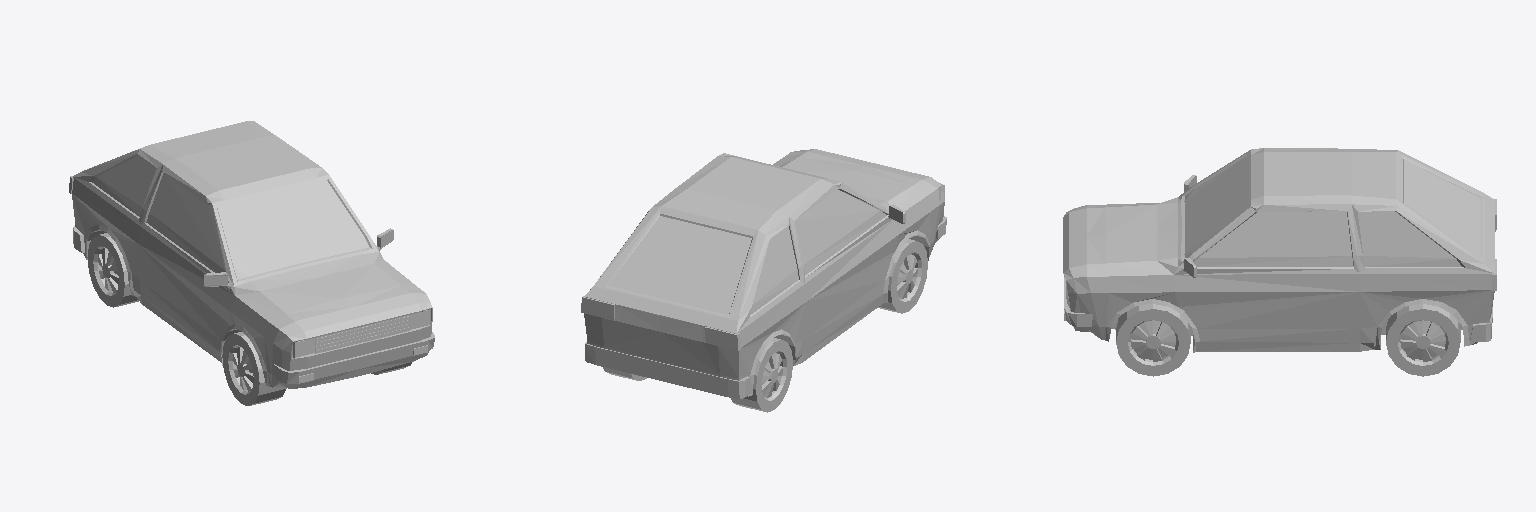
Rendered from carobj.obj.
The picture shows the model from 3 angles: view 1: azimuth 30°, elevation 25°; view 2: azimuth 150°, elevation 25°; view 3: azimuth 270°, elevation 25°; orthographic projection.
Visible parts, largest first — view 1: Cube_Material.001_0, Cube.003_Materiais_0, Cube.001_Materiais_0, Cube.004_Materiais_0, Cube.002_Materiais_0, Cube.007_Materiais_0, Cube.006_farois_f_0; view 2: Cube_Material.001_0, Cube.004_Materiais_0, Cube.001_Materiais_0, Cube.003_Materiais_0, Cube.005_farois_3_0; view 3: Cube_Material.001_0, Cube.001_Materiais_0, Cube.003_Materiais_0, Cube.004_Materiais_0.
Part boxes in pixels (left/top/right/bottom): Cube_Material.001_0: left=72, top=121, right=432, bottom=388; Cube.003_Materiais_0: left=222, top=332, right=411, bottom=405; Cube.001_Materiais_0: left=87, top=233, right=138, bottom=307; Cube.004_Materiais_0: left=73, top=226, right=434, bottom=383; Cube.002_Materiais_0: left=293, top=309, right=430, bottom=358; Cube.007_Materiais_0: left=204, top=228, right=393, bottom=288; Cube.006_farois_f_0: left=296, top=310, right=429, bottom=356; Cube_Material.001_0: left=584, top=149, right=944, bottom=396; Cube.004_Materiais_0: left=585, top=216, right=946, bottom=399; Cube.001_Materiais_0: left=603, top=338, right=792, bottom=412; Cube.003_Materiais_0: left=878, top=239, right=927, bottom=313; Cube.005_farois_3_0: left=581, top=296, right=740, bottom=350; Cube_Material.001_0: left=1063, top=148, right=1495, bottom=352; Cube.001_Materiais_0: left=1386, top=304, right=1460, bottom=376; Cube.003_Materiais_0: left=1116, top=304, right=1190, bottom=376; Cube.004_Materiais_0: left=1064, top=277, right=1492, bottom=341.
Size of the model in its own units: 5.03 by 4.18 by 9.96.